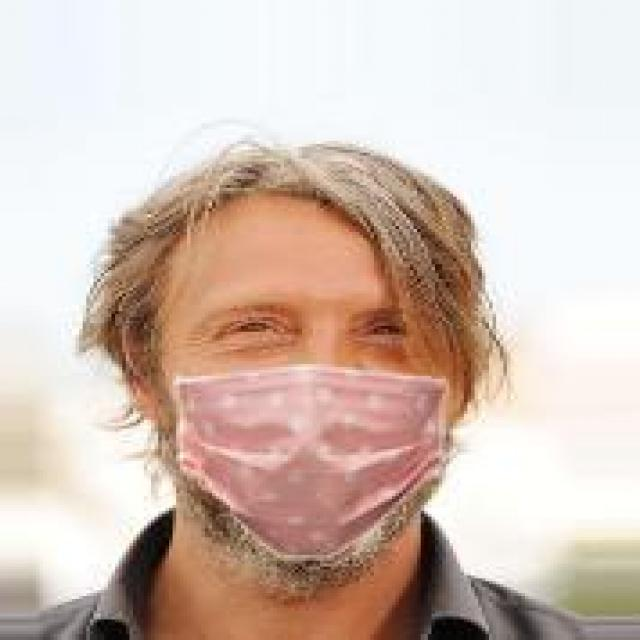mask: (154, 120, 510, 564)
